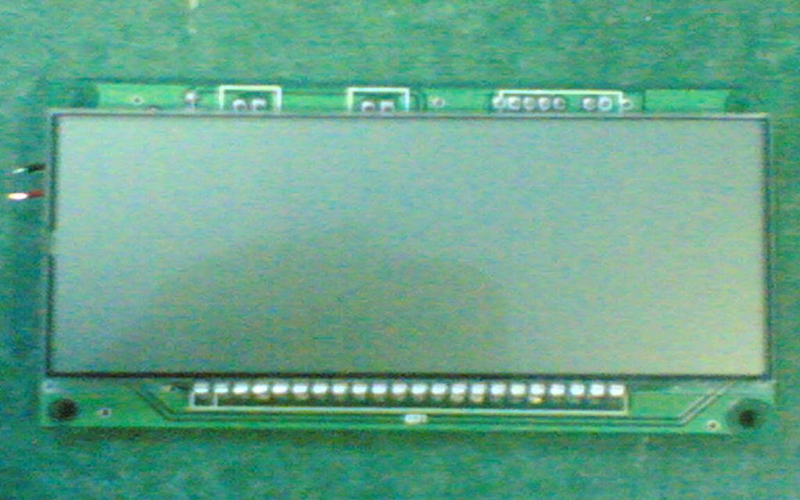LCD: (27, 95, 787, 396)
